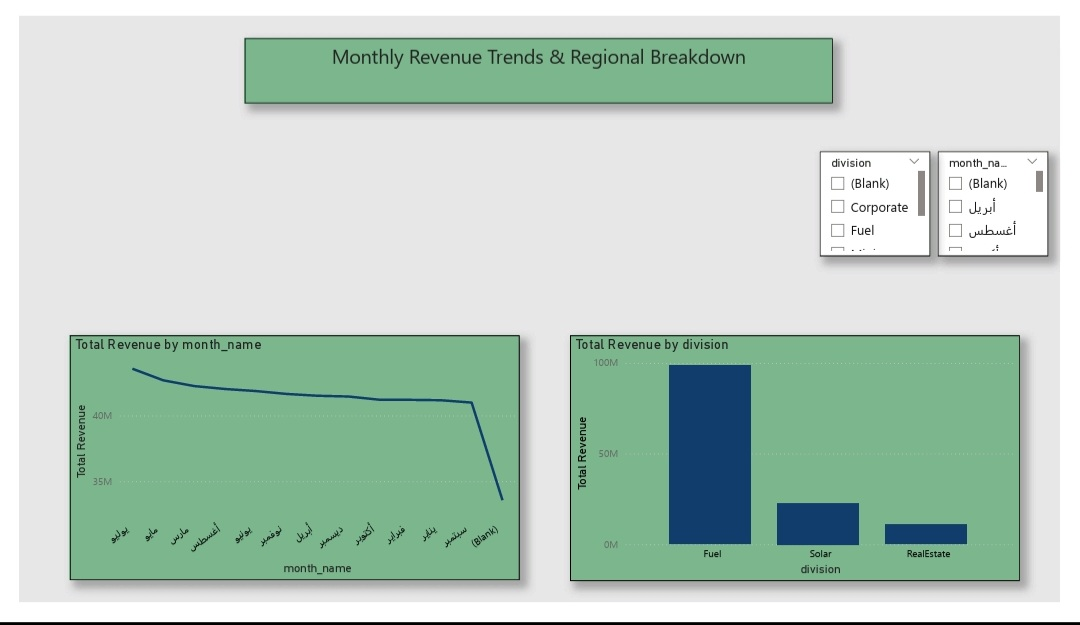

The dashboard page shown, as its layout file describes it:
{"tool":"powerbi","page":{"name":"Revenue Analysis","canvas":[1280,720],"ordinal":1},"visuals":[{"type":"textbox","box":[277.2,27.4,723.2,79.6],"z":0},{"type":"slicer","fields":{"Values":["calendar.month_name"]},"box":[1129.3,166,135.8,129],"z":1},{"type":"slicer","fields":{"Values":["departments.division"]},"box":[981.1,166,135.8,129],"z":2},{"type":"lineChart","fields":{"Category":["calendar.month_name"],"Y":["key measures.Total Revenue"]},"box":[61.7,392.5,553,300.5],"z":3},{"type":"clusteredColumnChart","fields":{"Y":["key measures.Total Revenue"],"Category":["departments.division"]},"box":[676.5,392.5,553,301.9],"z":4}]}

Visuals, with their boxes in screenshot pixels (x1, y1, x2, y2), scaled from the page's 1280x720 canvas onto the 1080x625 screenshot:
textbox: bbox=(234, 24, 844, 93)
slicer - calendar.month_name: bbox=(953, 144, 1067, 256)
slicer - departments.division: bbox=(828, 144, 942, 256)
lineChart - calendar.month_name x key measures.Total Revenue: bbox=(52, 341, 519, 602)
clusteredColumnChart - key measures.Total Revenue x departments.division: bbox=(571, 341, 1037, 603)
